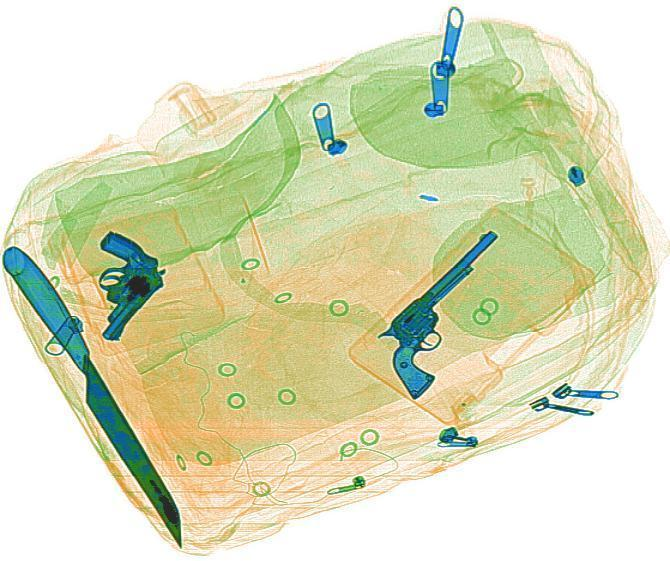Gun: (344, 227, 557, 399), (42, 227, 182, 344)
Knife: (0, 246, 202, 550)
